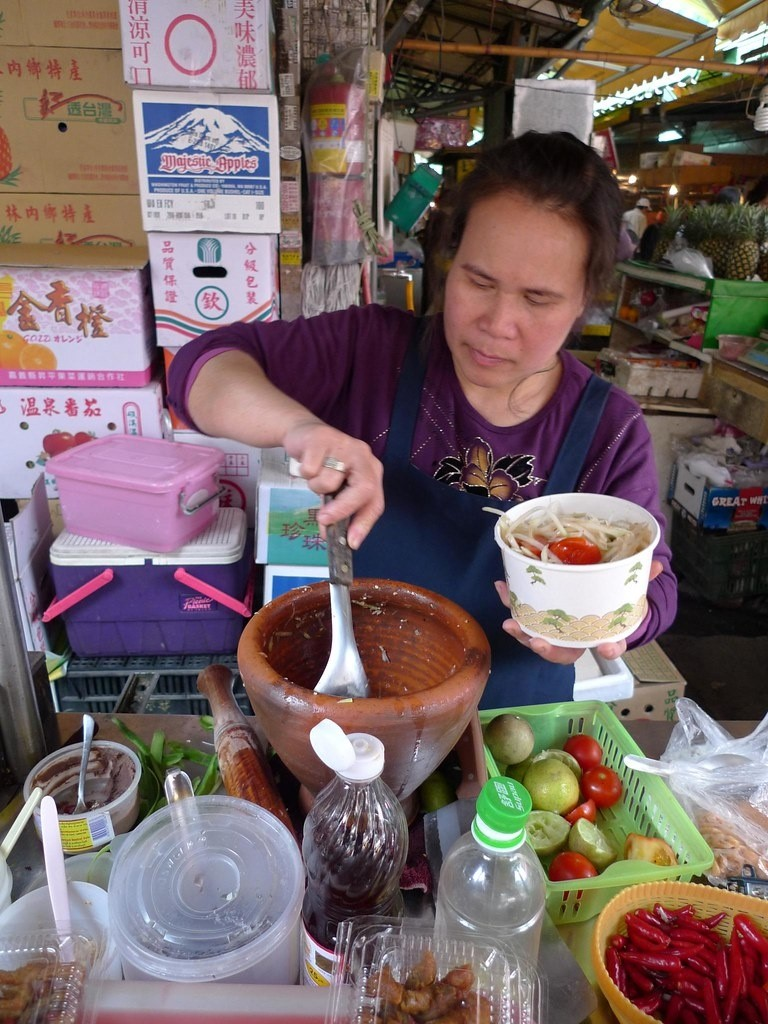face_no_mask: (438, 134, 618, 391)
